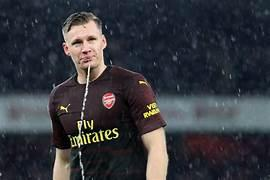Spitting: (49, 10, 127, 85)
